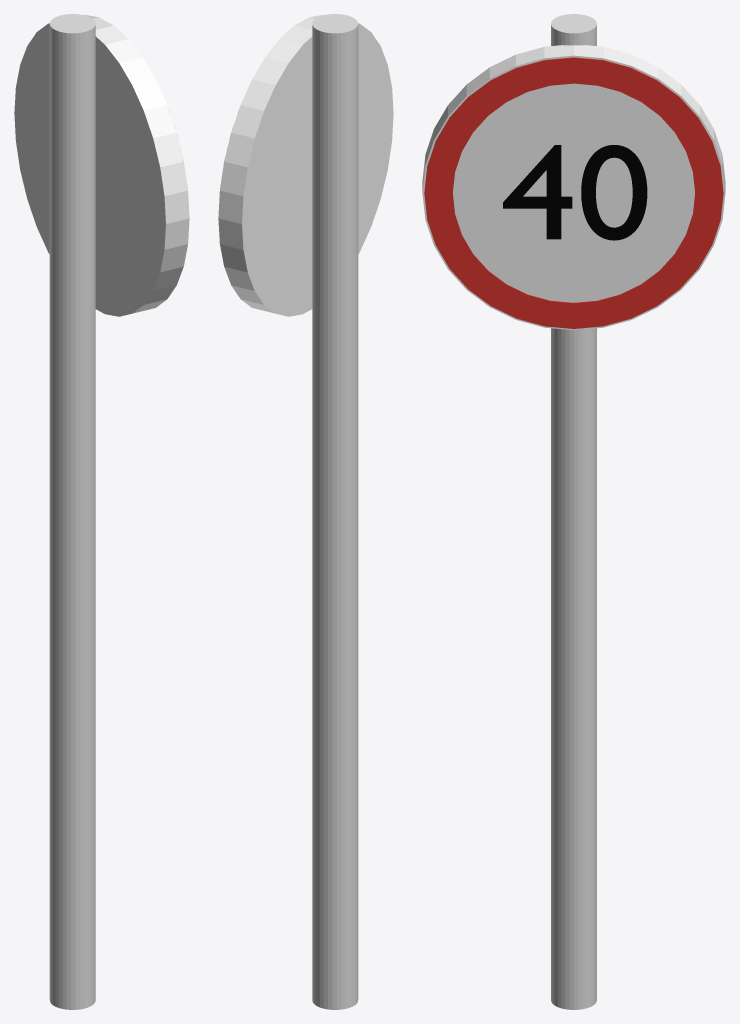
File: SignSpeedLimit40.fbx
3 views of the same model, side by side, from view 1: azimuth 30°, elevation 25°; view 2: azimuth 150°, elevation 25°; view 3: azimuth 270°, elevation 25° (orthographic).
Parts seen in each view (by area): view 1: Cylinder.005, SignCircle.005; view 2: Cylinder.005, SignCircle.005; view 3: SignCircle.005, Cylinder.005, SignCircle.004, TextStop.003.
Part boxes in pixels (x1,y1,x2,y2): Cylinder.005: [49, 14, 95, 1009]; SignCircle.005: [14, 15, 189, 316]; Cylinder.005: [312, 14, 358, 1009]; SignCircle.005: [218, 15, 393, 316]; SignCircle.005: [422, 45, 725, 330]; Cylinder.005: [551, 14, 596, 1009]; SignCircle.004: [424, 57, 723, 328]; TextStop.003: [503, 145, 647, 240].
Size of the model in its own units: 111 by 1671 by 470.
